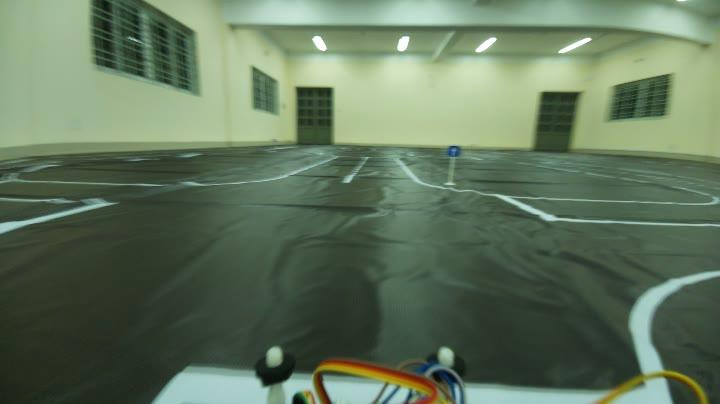onewayroad: (443, 142, 462, 164)
